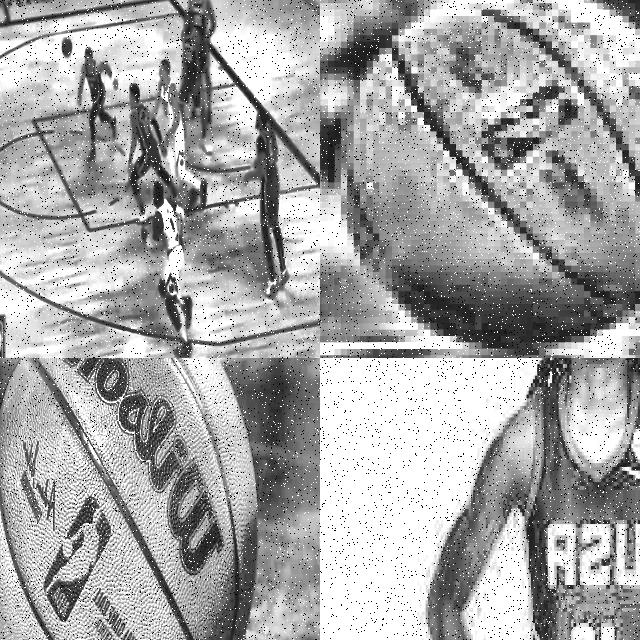Basketball: (0, 358, 257, 640), (61, 37, 72, 55)
